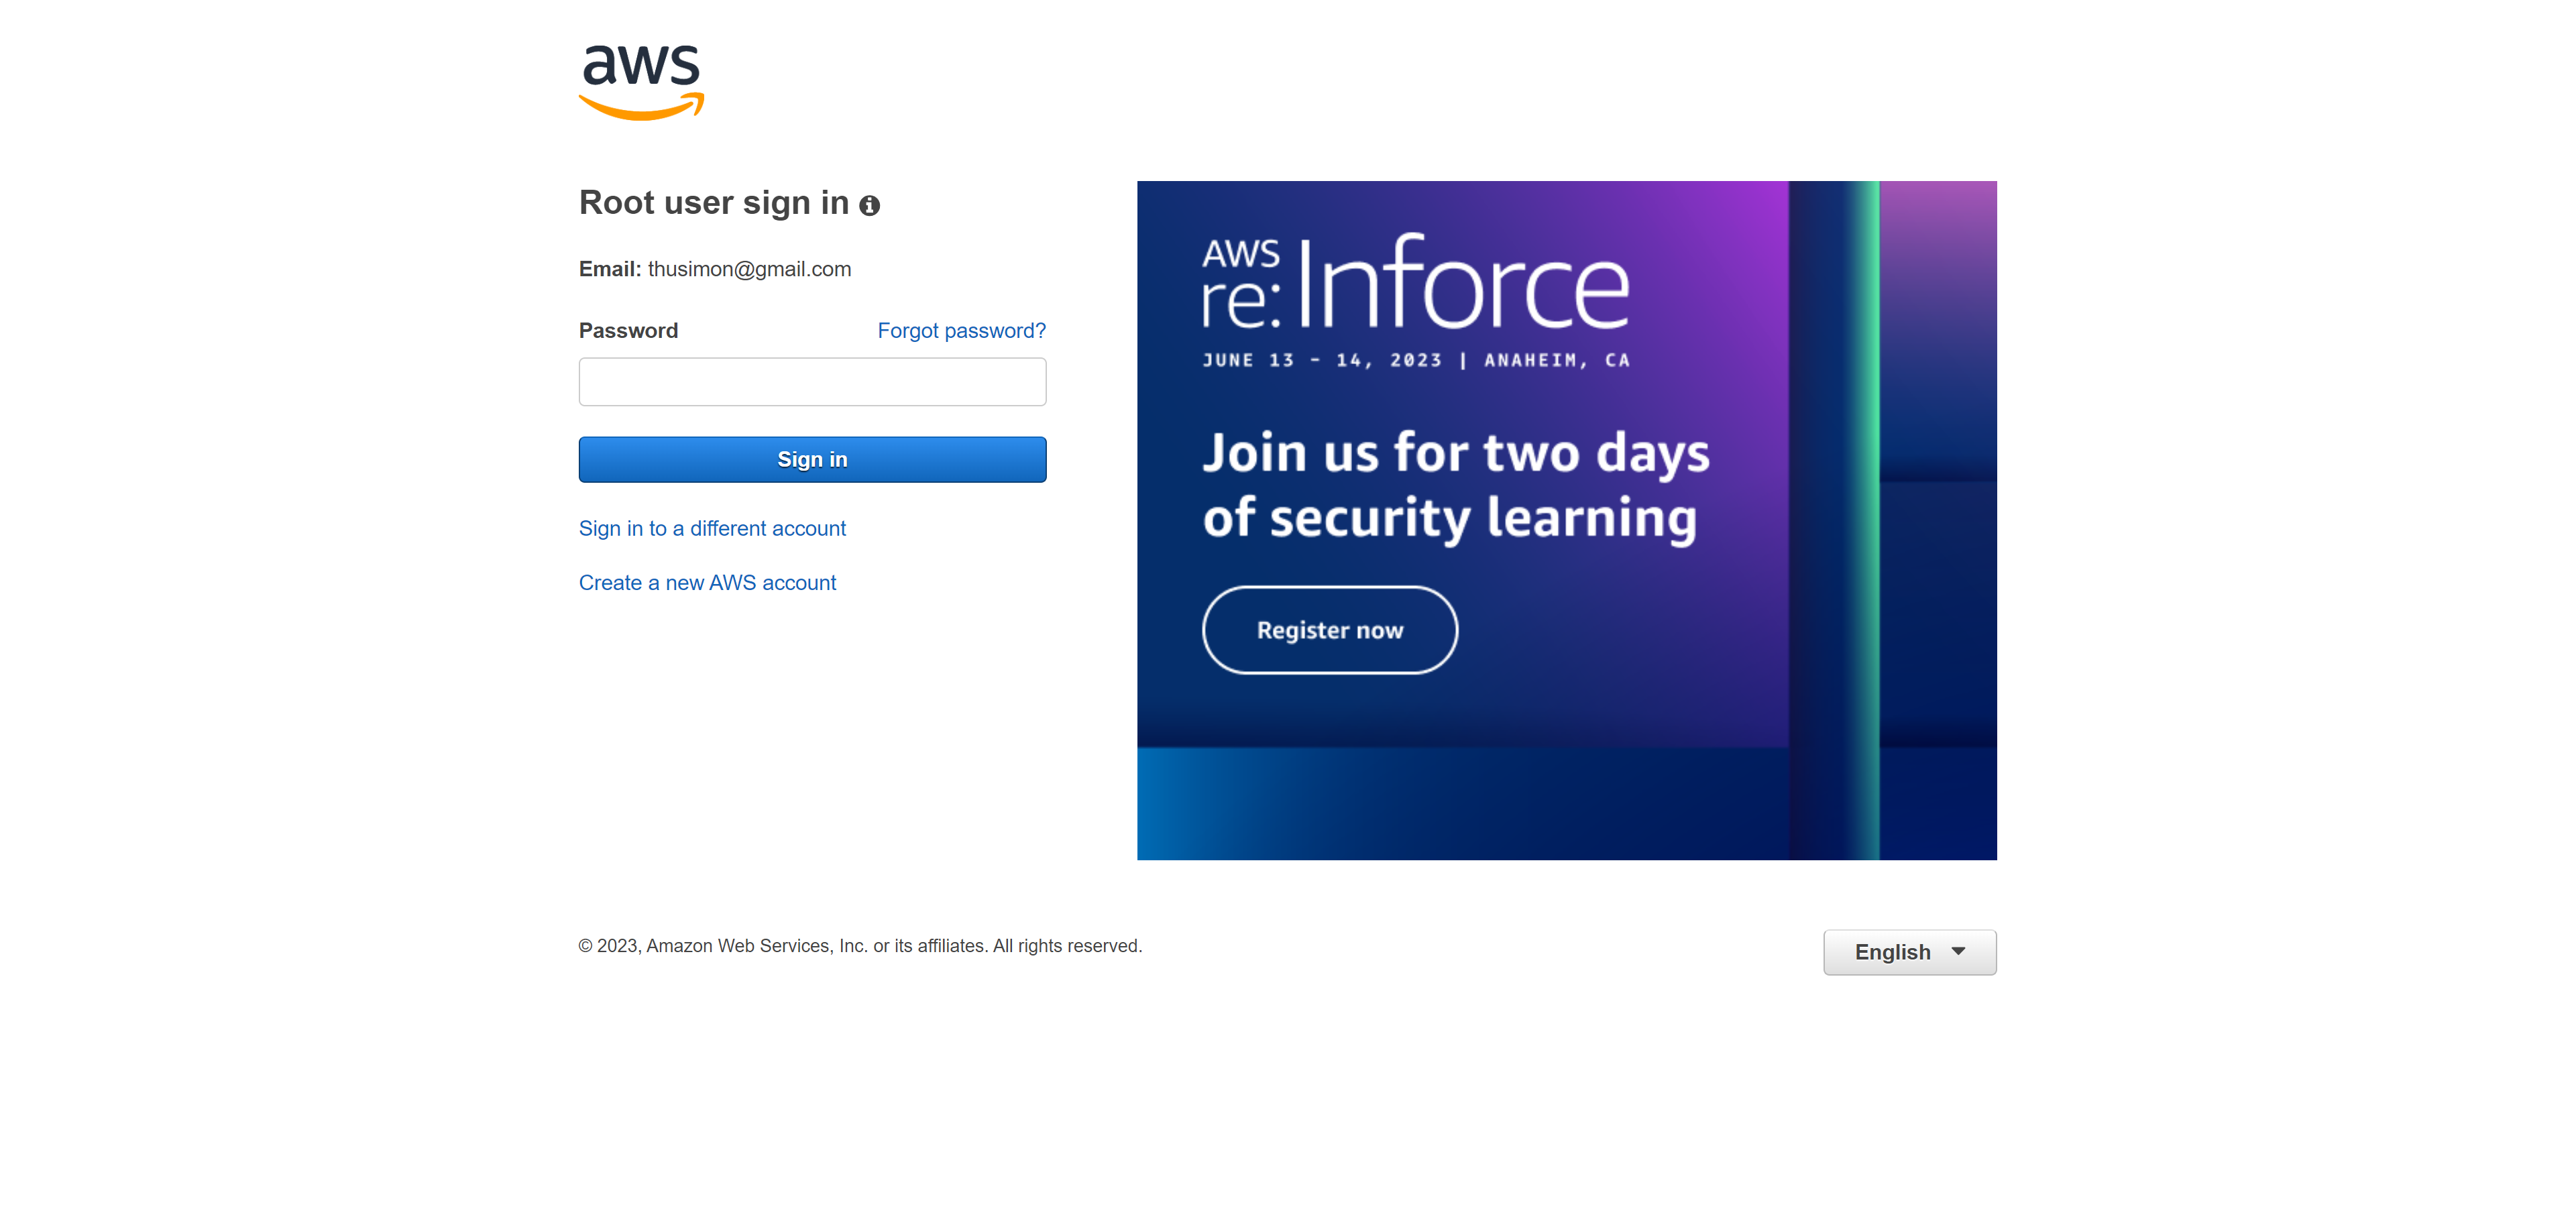login_button: (578, 435, 1048, 483)
login_form: (572, 317, 1053, 490)
